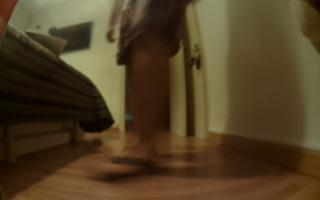person: (93, 1, 196, 190)
